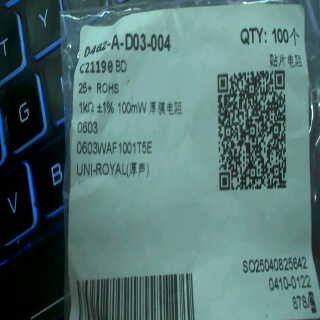1kR: (78, 97, 96, 116)
